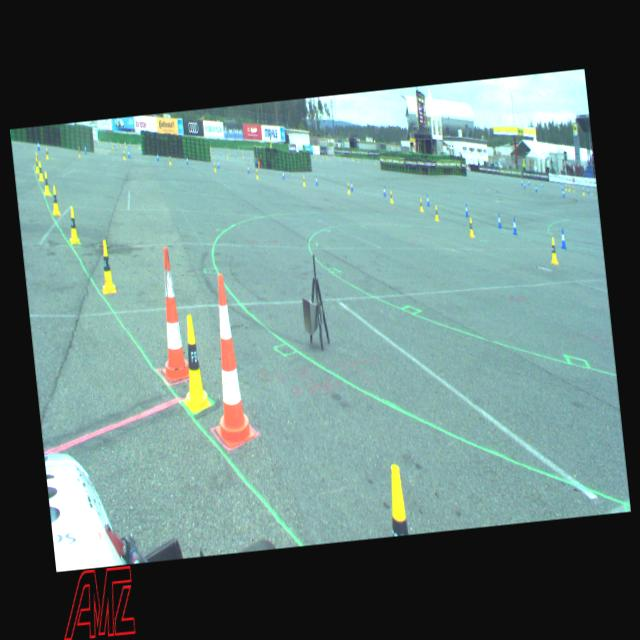blue_cone: (559, 228, 566, 249), (511, 217, 517, 234), (496, 213, 501, 228), (464, 203, 468, 216), (426, 194, 430, 206), (36, 140, 40, 150), (383, 186, 386, 197), (84, 144, 87, 154), (315, 174, 318, 184), (127, 149, 130, 158), (156, 152, 159, 160), (217, 160, 220, 168), (350, 180, 352, 191), (562, 188, 564, 198), (186, 155, 188, 164), (282, 170, 284, 179)
large_orange_cone: (200, 272, 256, 448), (150, 246, 190, 382)
yellow_cone: (174, 313, 212, 413), (385, 464, 408, 536), (98, 239, 116, 293), (66, 206, 79, 244), (50, 184, 60, 216), (548, 237, 558, 264), (41, 171, 50, 196), (36, 161, 44, 181), (467, 216, 474, 236), (433, 205, 439, 221), (34, 156, 38, 172), (34, 151, 38, 166), (44, 147, 49, 159), (419, 198, 423, 212), (389, 190, 393, 203), (77, 146, 81, 157), (122, 150, 126, 160), (168, 156, 172, 166), (347, 182, 350, 194), (302, 175, 305, 186), (213, 162, 216, 172), (256, 168, 258, 178)
